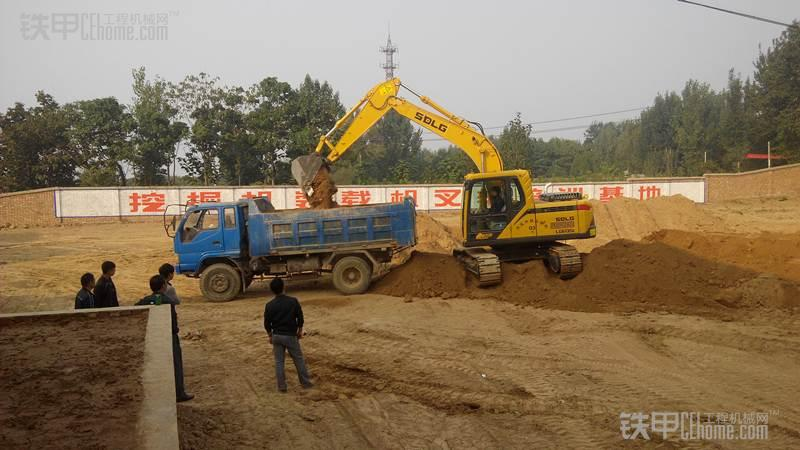excavator: (279, 70, 604, 290)
